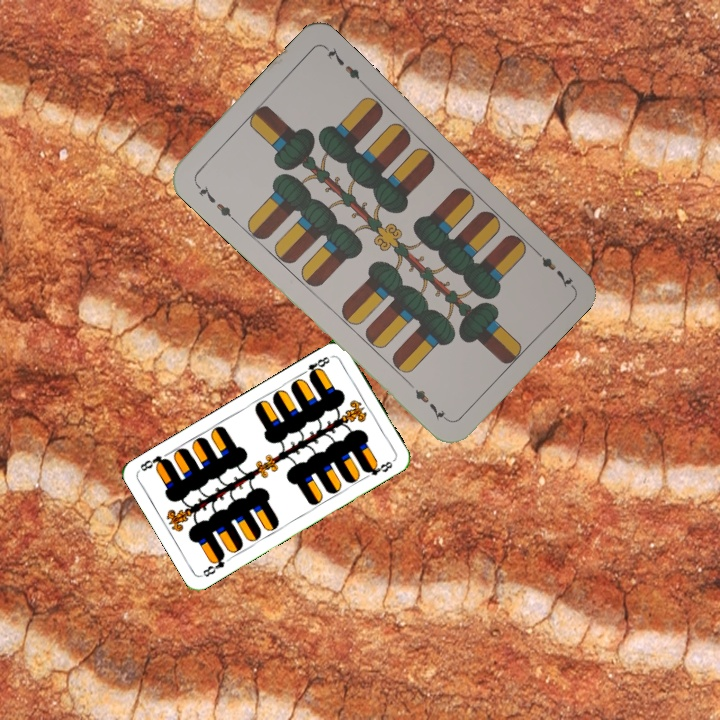E7: (529, 244, 575, 290), (191, 179, 238, 224)
E8: (297, 352, 332, 380), (198, 550, 228, 580)
